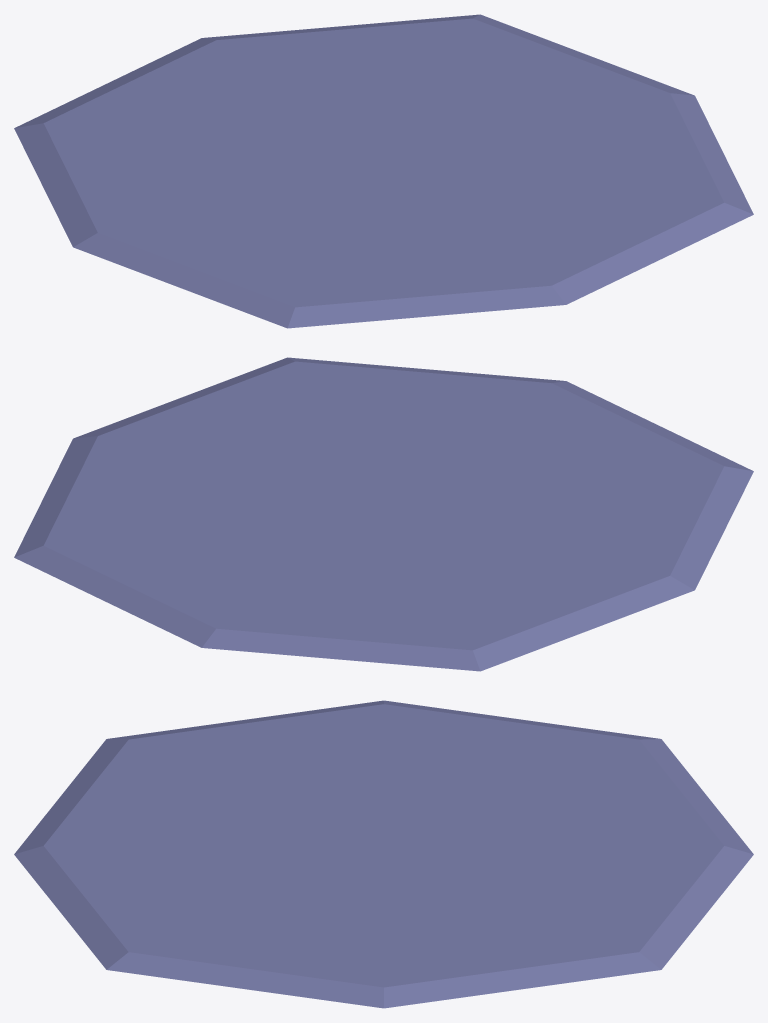
Rendered from Carpet_2.fbx.
3 views of the same model, one above another, from view 1: azimuth 30°, elevation 25°; view 2: azimuth 150°, elevation 25°; view 3: azimuth 270°, elevation 25° (orthographic).
Parts seen in each view (by area): view 1: Carpet_2; view 2: Carpet_2; view 3: Carpet_2.
Boxes of the visible parts, x1,y1,x2,y2 form: Carpet_2: [14, 14, 753, 328]; Carpet_2: [14, 357, 753, 671]; Carpet_2: [14, 700, 753, 1008].
Bounding box in the file's own units: 342 × 347 × 4.48.
